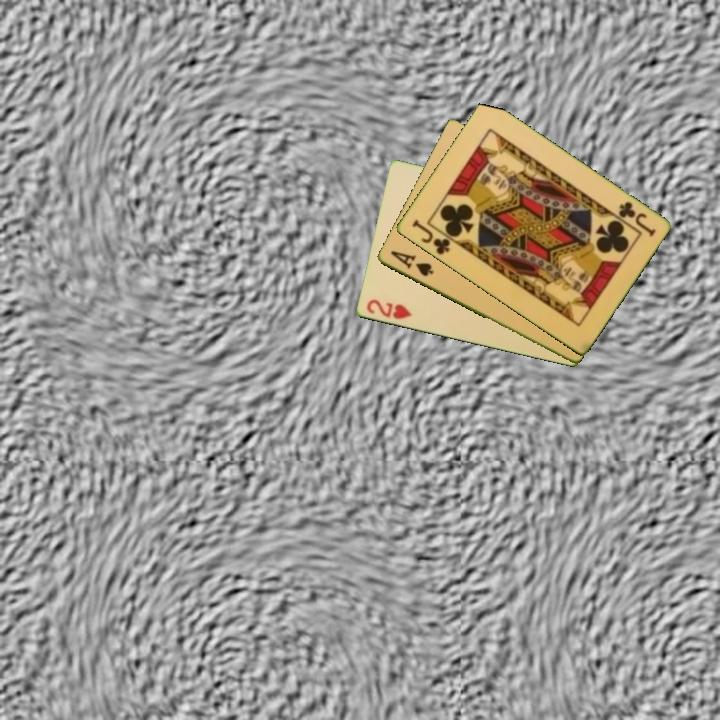2h: (363, 296, 414, 322)
As: (387, 247, 436, 280)
Jc: (408, 216, 453, 258), (614, 198, 658, 240)
